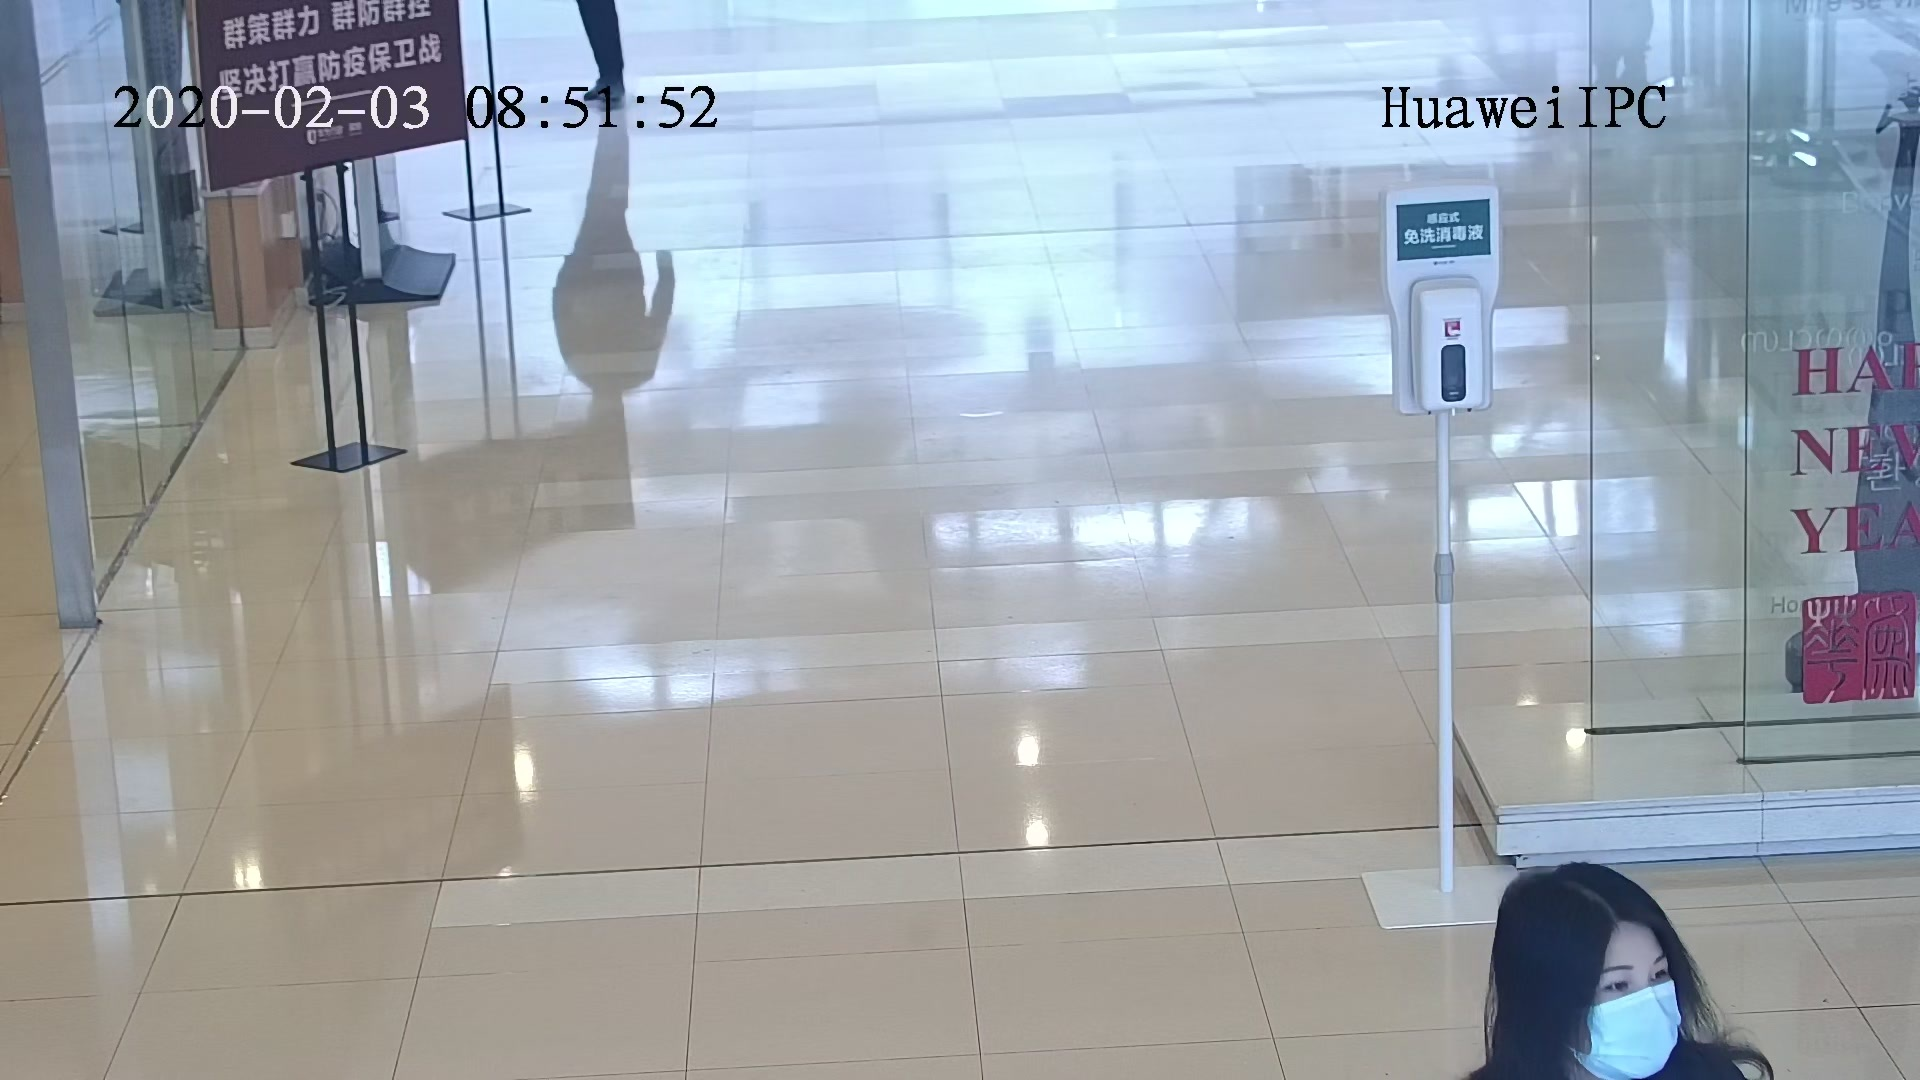face: (1574, 920, 1690, 1080)
mask: (1576, 982, 1684, 1078)
person: (1409, 866, 1823, 1077)
